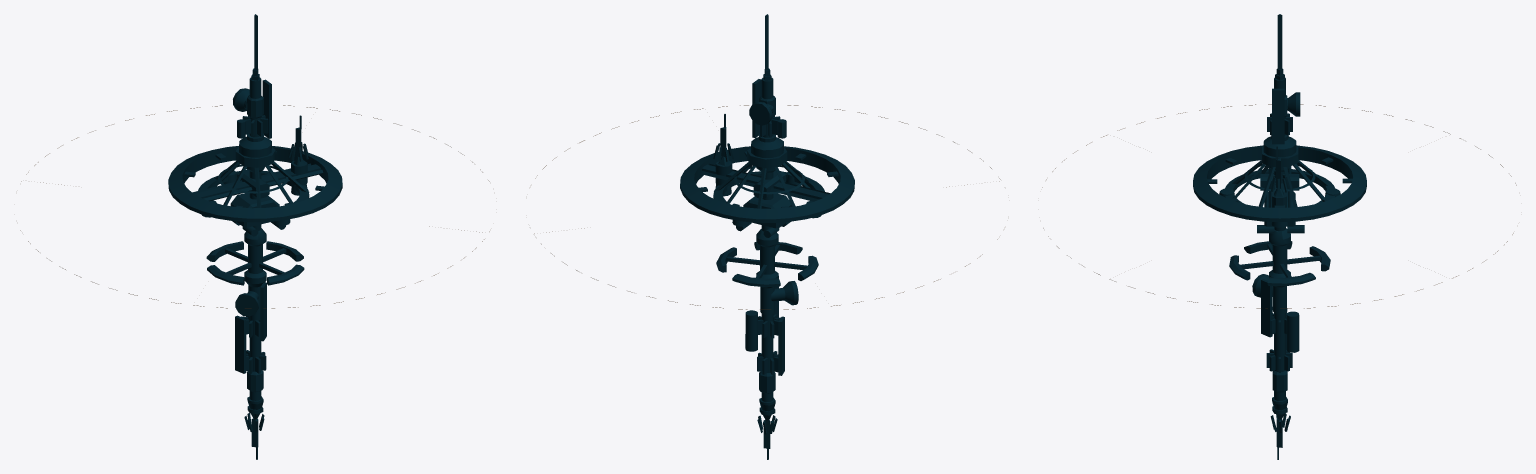
File: StationBravo.dae
3 renders of one model, left to right at view 1: azimuth 30°, elevation 25°; view 2: azimuth 150°, elevation 25°; view 3: azimuth 270°, elevation 25°, orthographic.
Parts seen in each view (by area): view 1: station_bravo1; view 2: station_bravo1; view 3: station_bravo1.
Part boxes in pixels (x1=…): station_bravo1: x1=168, y1=14, x2=342, y2=459; station_bravo1: x1=680, y1=14, x2=854, y2=459; station_bravo1: x1=1193, y1=14, x2=1366, y2=459.
Size of the model in its own units: 3 by 3.04 by 3.
